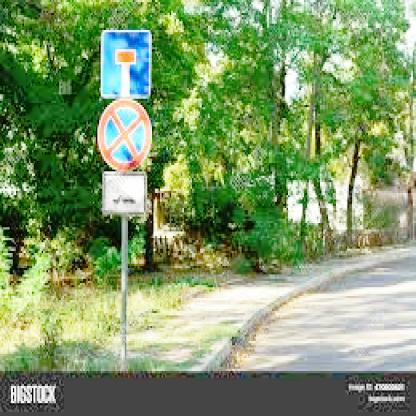No stopping: (90, 96, 153, 169)
